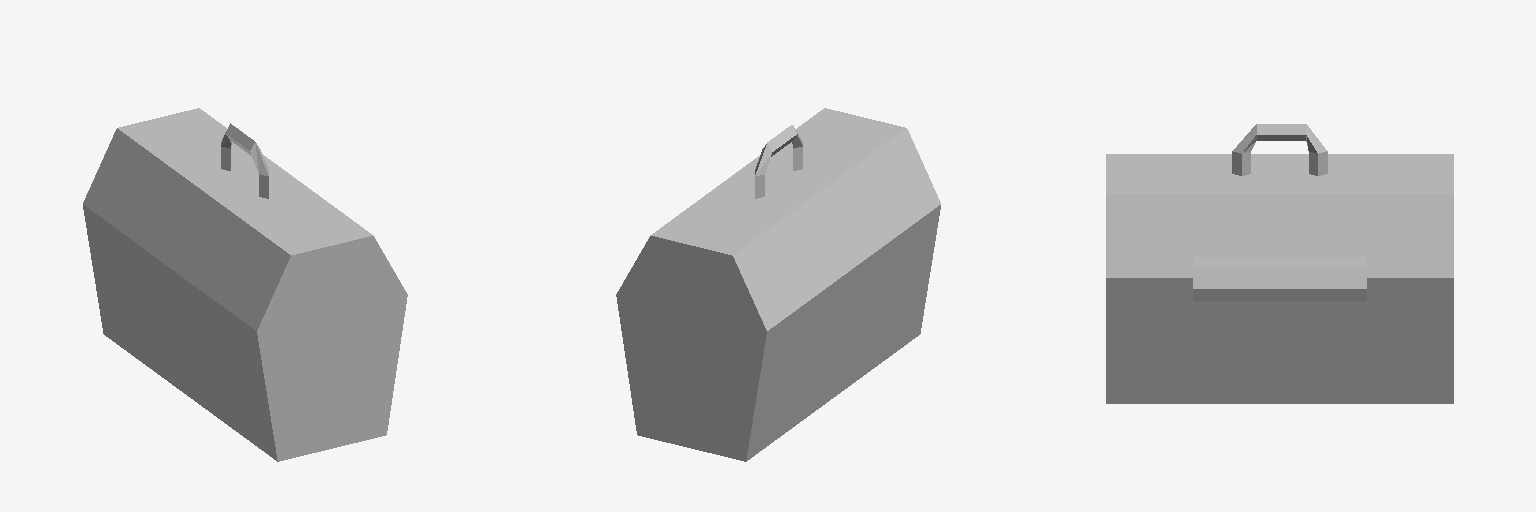
The model's file is Props_Toolbox_Geo.obj.
3 renders of one model, left to right at view 1: azimuth 30°, elevation 25°; view 2: azimuth 150°, elevation 25°; view 3: azimuth 270°, elevation 25°, orthographic.
Visible parts, largest first — view 1: PropZoo:pCube85; view 2: PropZoo:pCube85; view 3: PropZoo:pCube85.
Part boxes in pixels (bbox=[...]): PropZoo:pCube85: bbox=[83, 108, 407, 461]; PropZoo:pCube85: bbox=[616, 108, 940, 461]; PropZoo:pCube85: bbox=[1106, 124, 1453, 403].
Size of the model in its own units: 0.4 by 0.5593 by 0.7.